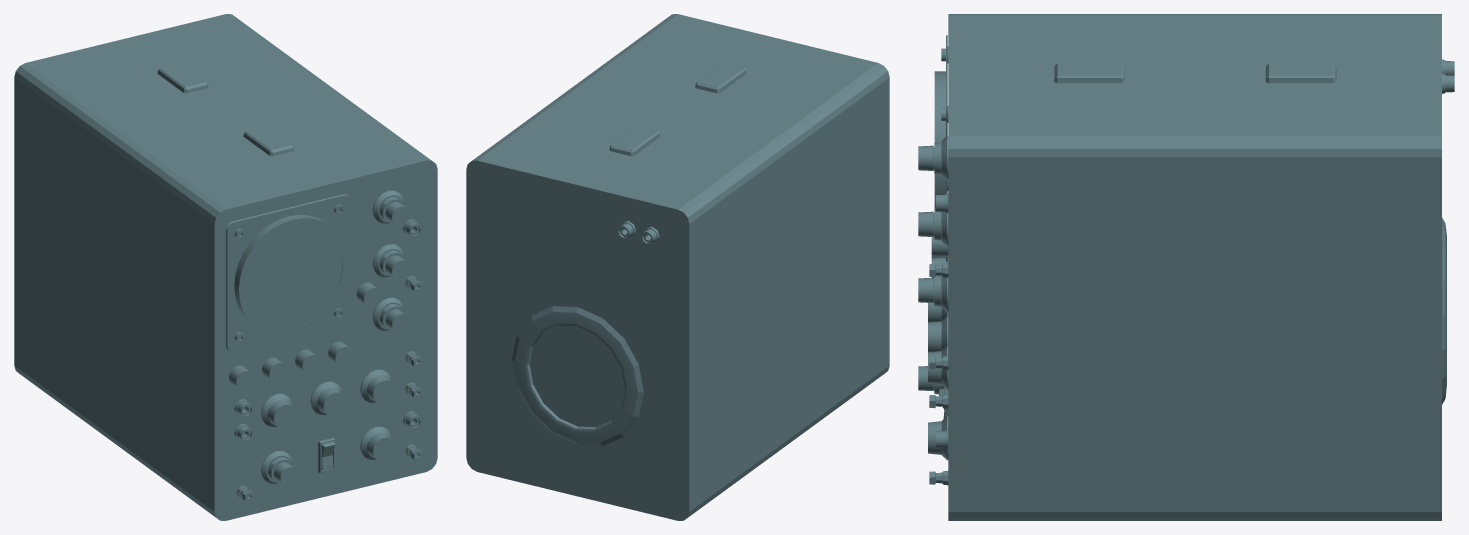
Rendered from lowPoly.fbx.
The picture shows the model from 3 angles, left to right: view 1: azimuth 30°, elevation 25°; view 2: azimuth 150°, elevation 25°; view 3: azimuth 270°, elevation 25°; orthographic projection. The views are drawn at different scales.
Visible parts, largest first — view 1: lowPoly; view 2: lowPoly; view 3: lowPoly.
Part boxes in pixels (bbox=[...]): lowPoly: bbox=[14, 14, 437, 520]; lowPoly: bbox=[466, 14, 889, 520]; lowPoly: bbox=[918, 14, 1454, 520].
Bounding box in the file's own units: 0.45 × 0.61 × 0.7608.
